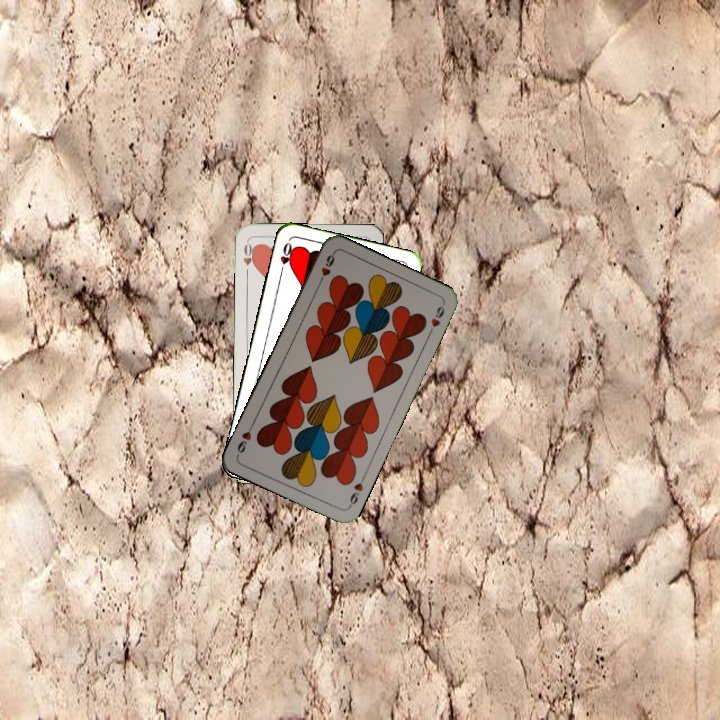H9: (314, 249, 337, 287), (345, 478, 366, 510)
HO: (276, 238, 297, 277), (239, 238, 258, 278)
